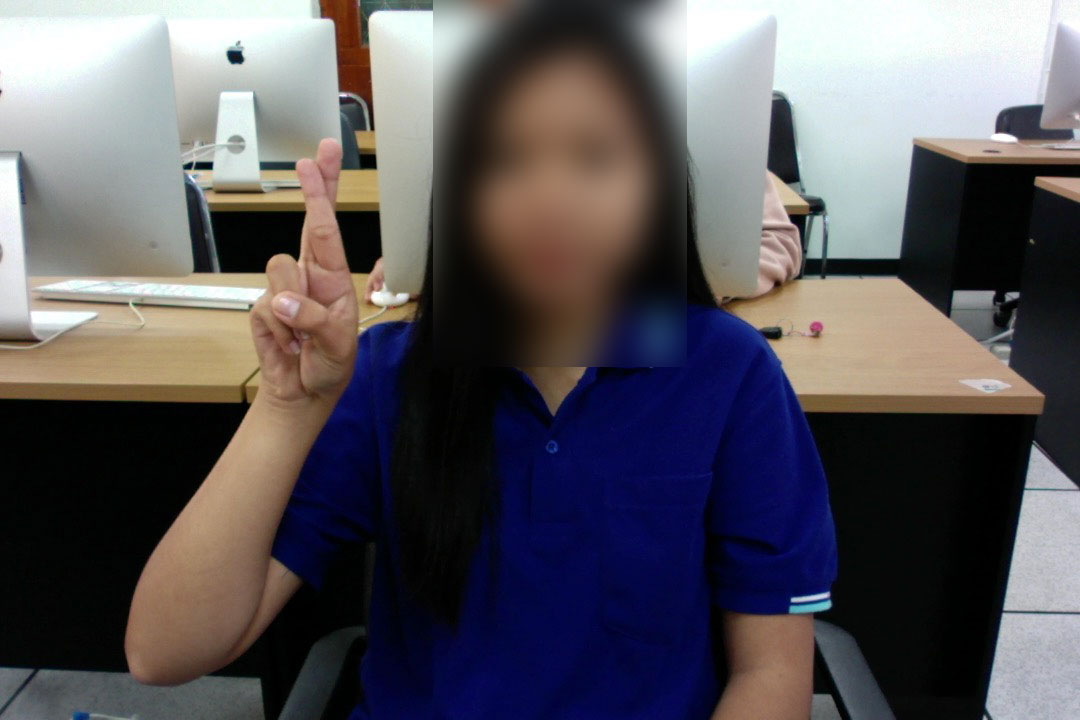rao: (239, 141, 374, 407)
